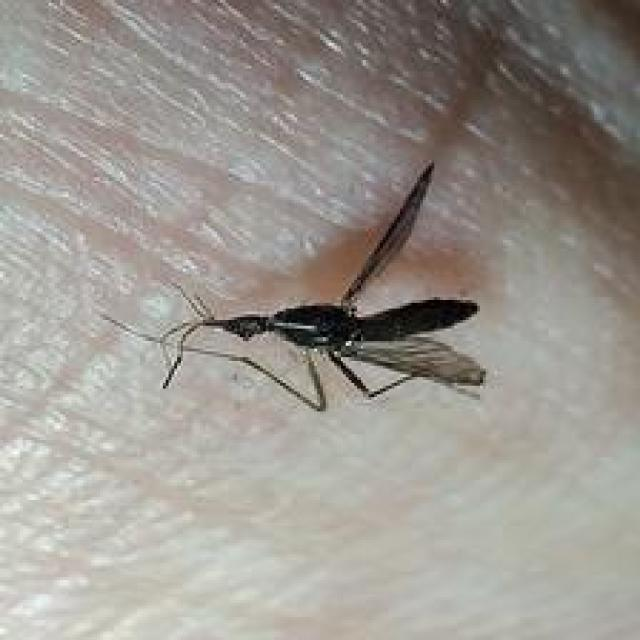Aedes albopictus: (97, 158, 489, 413)
